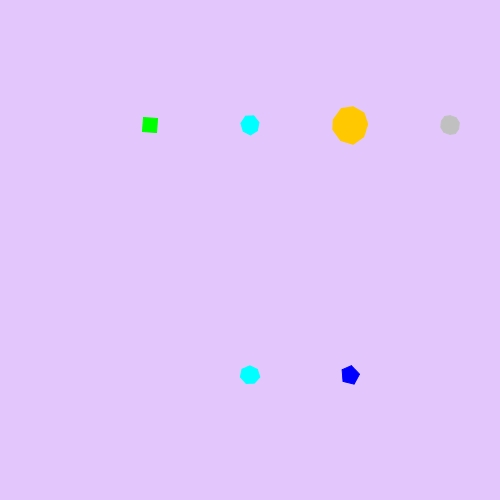decagon: (435, 111, 465, 139)
heptagon: (236, 111, 265, 139), (236, 361, 265, 389)
nonagon: (327, 103, 373, 147)
pentagon: (336, 361, 364, 389)
quadrilateral: (135, 110, 165, 140)
